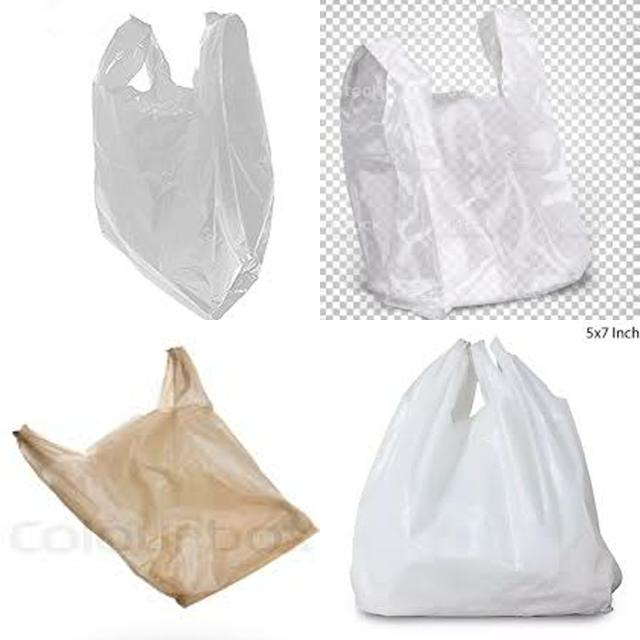Single-layer Plastic: (14, 348, 316, 606), (341, 9, 590, 318), (351, 339, 621, 616), (94, 12, 274, 319)
